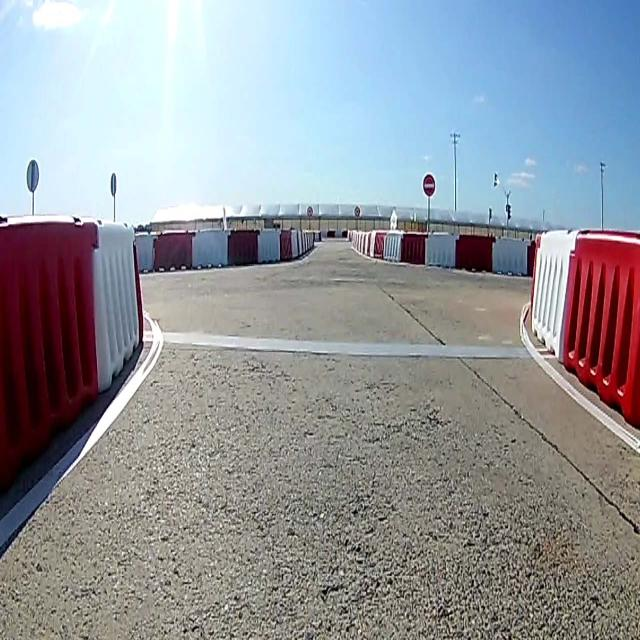girisyok: (422, 174, 436, 198)
